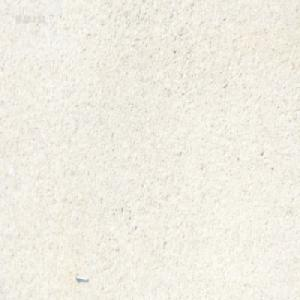Nail: (74, 272, 89, 282)
